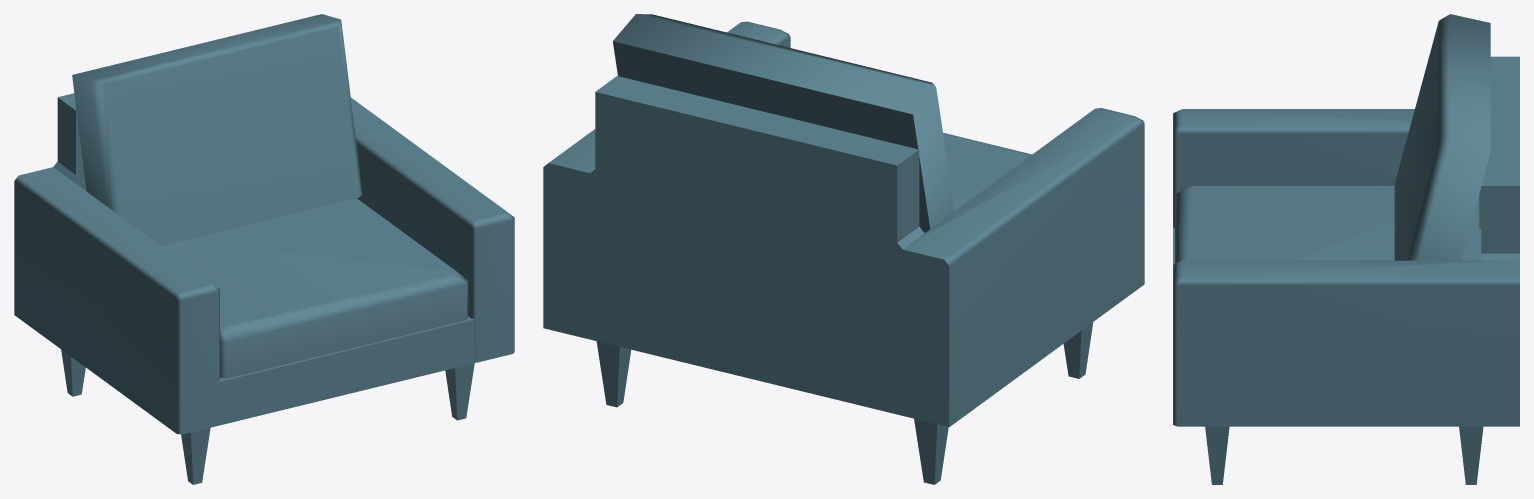
File: lchair.glb
3 renders of one model, left to right at view 1: azimuth 30°, elevation 25°; view 2: azimuth 150°, elevation 25°; view 3: azimuth 270°, elevation 25°, orthographic. The views are drawn at different scales.
Visible parts, largest first — view 1: Armchair; view 2: Armchair; view 3: Armchair.
Boxes of the visible parts, bbox=[...] form: Armchair: bbox=[14, 14, 514, 484]; Armchair: bbox=[543, 14, 1144, 484]; Armchair: bbox=[1173, 14, 1519, 484].
Bounding box in the file's own units: 1.33 × 1.2 × 1.12.
